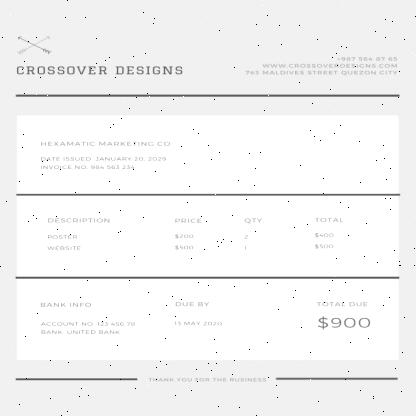Paragraph: (38, 138, 174, 172), (36, 299, 138, 339), (242, 53, 400, 78), (14, 63, 186, 77), (314, 300, 372, 331), (170, 298, 224, 328), (145, 375, 269, 384)
Table: (43, 214, 346, 258)
